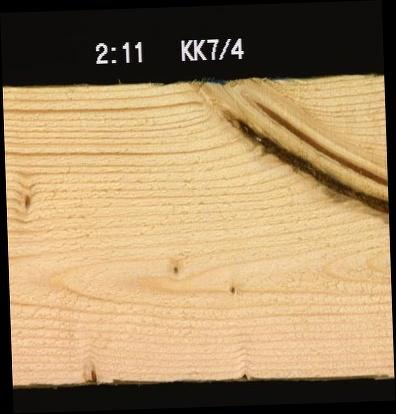edge_knot: (82, 357, 106, 385), (233, 368, 251, 379)
small_knot: (20, 187, 32, 213), (168, 260, 181, 278), (226, 282, 238, 297)
